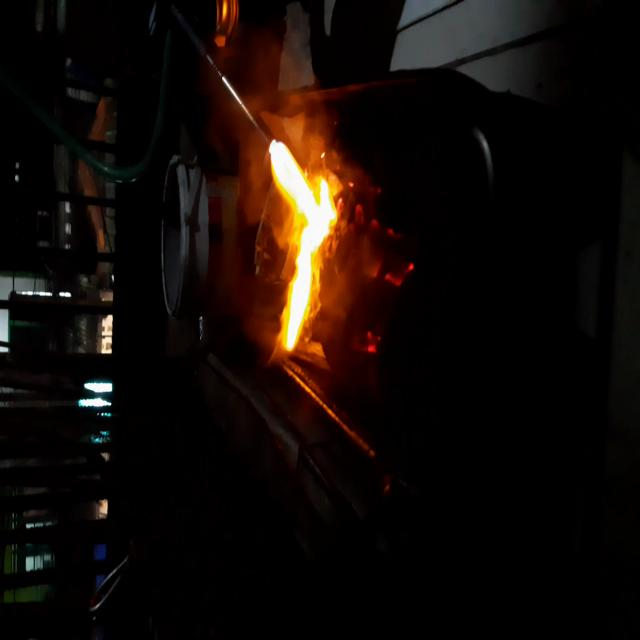Fire: (266, 112, 340, 355), (342, 186, 410, 380), (286, 77, 334, 148)
